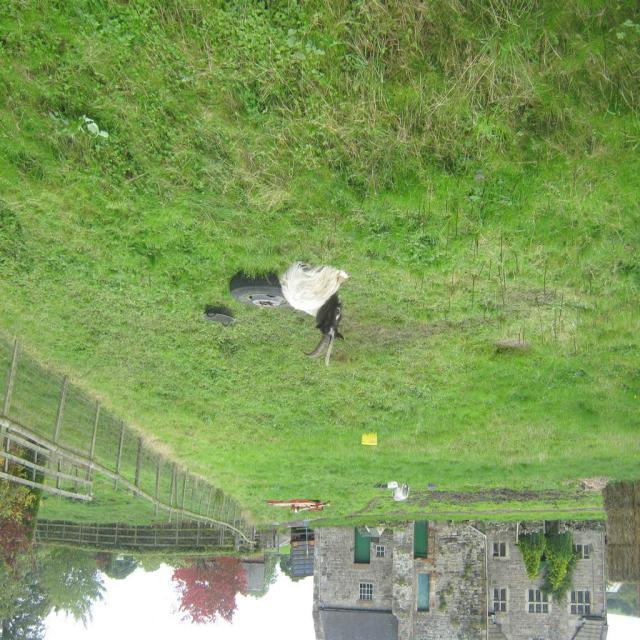Goat: (277, 261, 350, 367)
